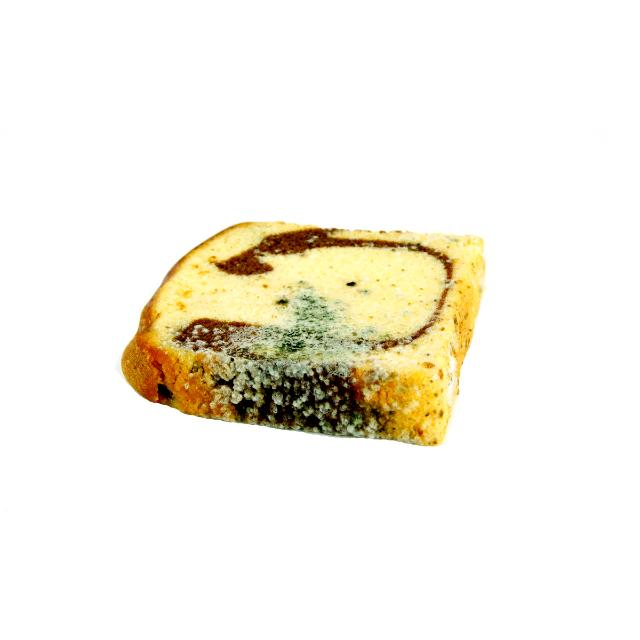organic: (120, 221, 487, 449)
